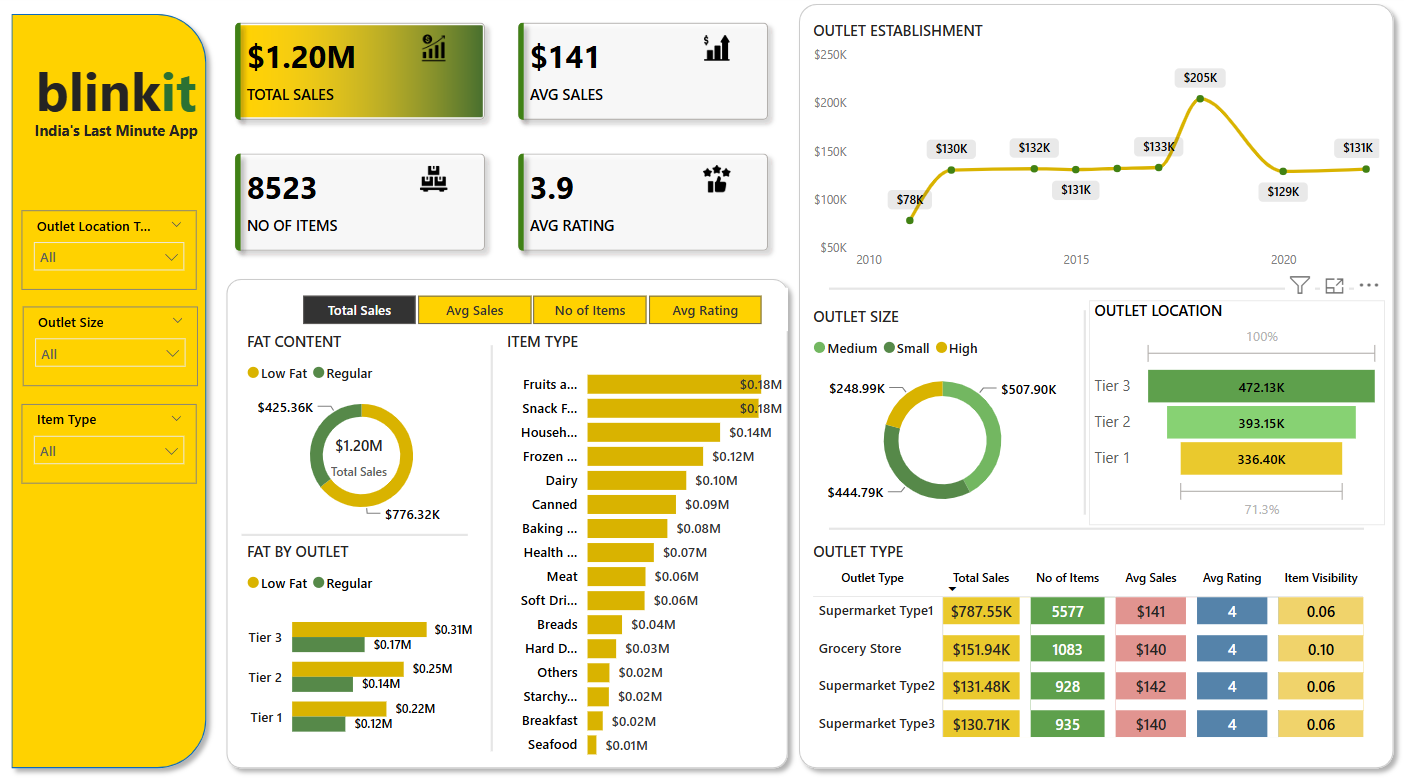

The page's visual inventory and layout, read from the dashboard file:
{"tool":"powerbi","page":{"name":"Page 1","canvas":[1280,720],"ordinal":0},"visuals":[{"type":"shape","box":[11.6,9.3,194.2,700],"z":0},{"type":"textbox","box":[37.5,48.6,168.1,75],"z":1000},{"type":"textbox","box":[36.1,109.7,168.1,27.8],"z":2000},{"type":"shape","box":[205.8,248.8,525.6,460.5],"z":4000},{"type":"donutChart","title":"FAT CONTENT","fields":{"Y":["BlinkIT Grocery Data.Total Sales"],"Series":["BlinkIT Grocery Data.Item Fat Content"]},"box":[227.9,304.7,217.4,179.1],"z":5000},{"type":"slicer","fields":{"Values":["Metrics.Metrics"]},"box":[258.1,265.1,465.1,39.5],"z":6000},{"type":"cardVisual","fields":{"Data":["BlinkIT Grocery Data.Total Sales"]},"box":[286,382.6,97.7,68.6],"z":7000},{"type":"clusteredBarChart","title":"FAT BY OUTLET","fields":{"Y":["BlinkIT Grocery Data.Total Sales"],"Category":["BlinkIT Grocery Data.Outlet Location Type"],"Series":["BlinkIT Grocery Data.Item Fat Content"]},"box":[227.9,495.4,214,193],"z":8000},{"type":"shape","box":[227.9,480.2,204.7,17.4],"z":9000},{"type":"shape","box":[445.4,317.4,18.6,367.4],"z":10000},{"type":"barChart","title":"ITEM TYPE","fields":{"Y":["BlinkIT Grocery Data.Total Sales"],"Category":["BlinkIT Grocery Data.Item Type"]},"box":[464,304.7,259.3,396.5],"z":11000},{"type":"shape","box":[723.3,0,555.8,709.3],"z":12000},{"type":"lineChart","title":"OUTLET ESTABLISHMENT","fields":{"Y":["BlinkIT Grocery Data.Total Sales"],"Category":["BlinkIT Grocery Data.Outlet Establishment Year"]},"box":[740.7,23.3,522.1,233.7],"z":13000},{"type":"donutChart","title":"OUTLET SIZE","fields":{"Y":["BlinkIT Grocery Data.Total Sales"],"Category":["BlinkIT Grocery Data.Outlet Size"]},"box":[740.7,282.6,244.2,196.5],"z":14000},{"type":"shape","box":[759.3,257,483.7,19.8],"z":15000},{"type":"shape","box":[984.9,286,12.8,184.9],"z":16000},{"type":"funnel","title":"OUTLET LOCATION","fields":{"Y":["Sum(BlinkIT Grocery Data.Sales)"],"Category":["BlinkIT Grocery Data.Outlet Location Type"]},"box":[994.2,276.7,268.6,203.5],"z":17000},{"type":"shape","box":[759.3,470.9,483.7,24.4],"z":18000},{"type":"pivotTable","title":"OUTLET TYPE","fields":{"Rows":["BlinkIT Grocery Data.Outlet Type"],"Values":["BlinkIT Grocery Data.Total Sales","BlinkIT Grocery Data.No of Items","BlinkIT Grocery Data.Avg Sales","BlinkIT Grocery Data.Avg Rating","Avg(BlinkIT Grocery Data.Item Visibility)"]},"box":[740.7,495.4,525.6,193],"z":19000},{"type":"slicer","fields":{"Values":["BlinkIT Grocery Data.Outlet Location Type"]},"box":[29.1,195.3,158.1,72.1],"z":20000},{"type":"slicer","fields":{"Values":["BlinkIT Grocery Data.Outlet Size"]},"box":[30.2,282.6,158.1,72.1],"z":21000},{"type":"slicer","fields":{"Values":["BlinkIT Grocery Data.Item Type"]},"box":[29.1,370.9,158.1,72.1],"z":22000},{"type":"cardVisual","fields":{"Data":["BlinkIT Grocery Data.Total Sales","BlinkIT Grocery Data.Avg Sales","BlinkIT Grocery Data.No of Items","BlinkIT Grocery Data.Avg Rating"]},"box":[206,9,517,240],"z":22001}]}

Visuals, with their boxes in screenshot pixels (x1, y1, x2, y2), scaled from the page's 1280x720 canvas onto the 1404x779 screenshot:
shape: crop(13, 10, 226, 767)
textbox: crop(41, 53, 226, 134)
textbox: crop(40, 119, 224, 149)
shape: crop(226, 269, 802, 767)
"FAT CONTENT" donutChart: crop(250, 330, 488, 523)
slicer - Metrics.Metrics: crop(283, 287, 793, 330)
cardVisual - BlinkIT Grocery Data.Total Sales: crop(314, 414, 421, 488)
"FAT BY OUTLET" clusteredBarChart: crop(250, 536, 485, 745)
shape: crop(250, 520, 475, 538)
shape: crop(489, 343, 509, 741)
"ITEM TYPE" barChart: crop(509, 330, 793, 759)
shape: crop(793, 0, 1403, 767)
"OUTLET ESTABLISHMENT" lineChart: crop(812, 25, 1385, 278)
"OUTLET SIZE" donutChart: crop(812, 306, 1080, 518)
shape: crop(833, 278, 1363, 299)
shape: crop(1080, 309, 1094, 509)
"OUTLET LOCATION" funnel: crop(1091, 299, 1385, 520)
shape: crop(833, 509, 1363, 536)
"OUTLET TYPE" pivotTable: crop(812, 536, 1389, 745)
slicer - BlinkIT Grocery Data.Outlet Location Type: crop(32, 211, 205, 289)
slicer - BlinkIT Grocery Data.Outlet Size: crop(33, 306, 207, 384)
slicer - BlinkIT Grocery Data.Item Type: crop(32, 401, 205, 479)
cardVisual - BlinkIT Grocery Data.Total Sales x BlinkIT Grocery Data.Avg Sales: crop(226, 10, 793, 269)
